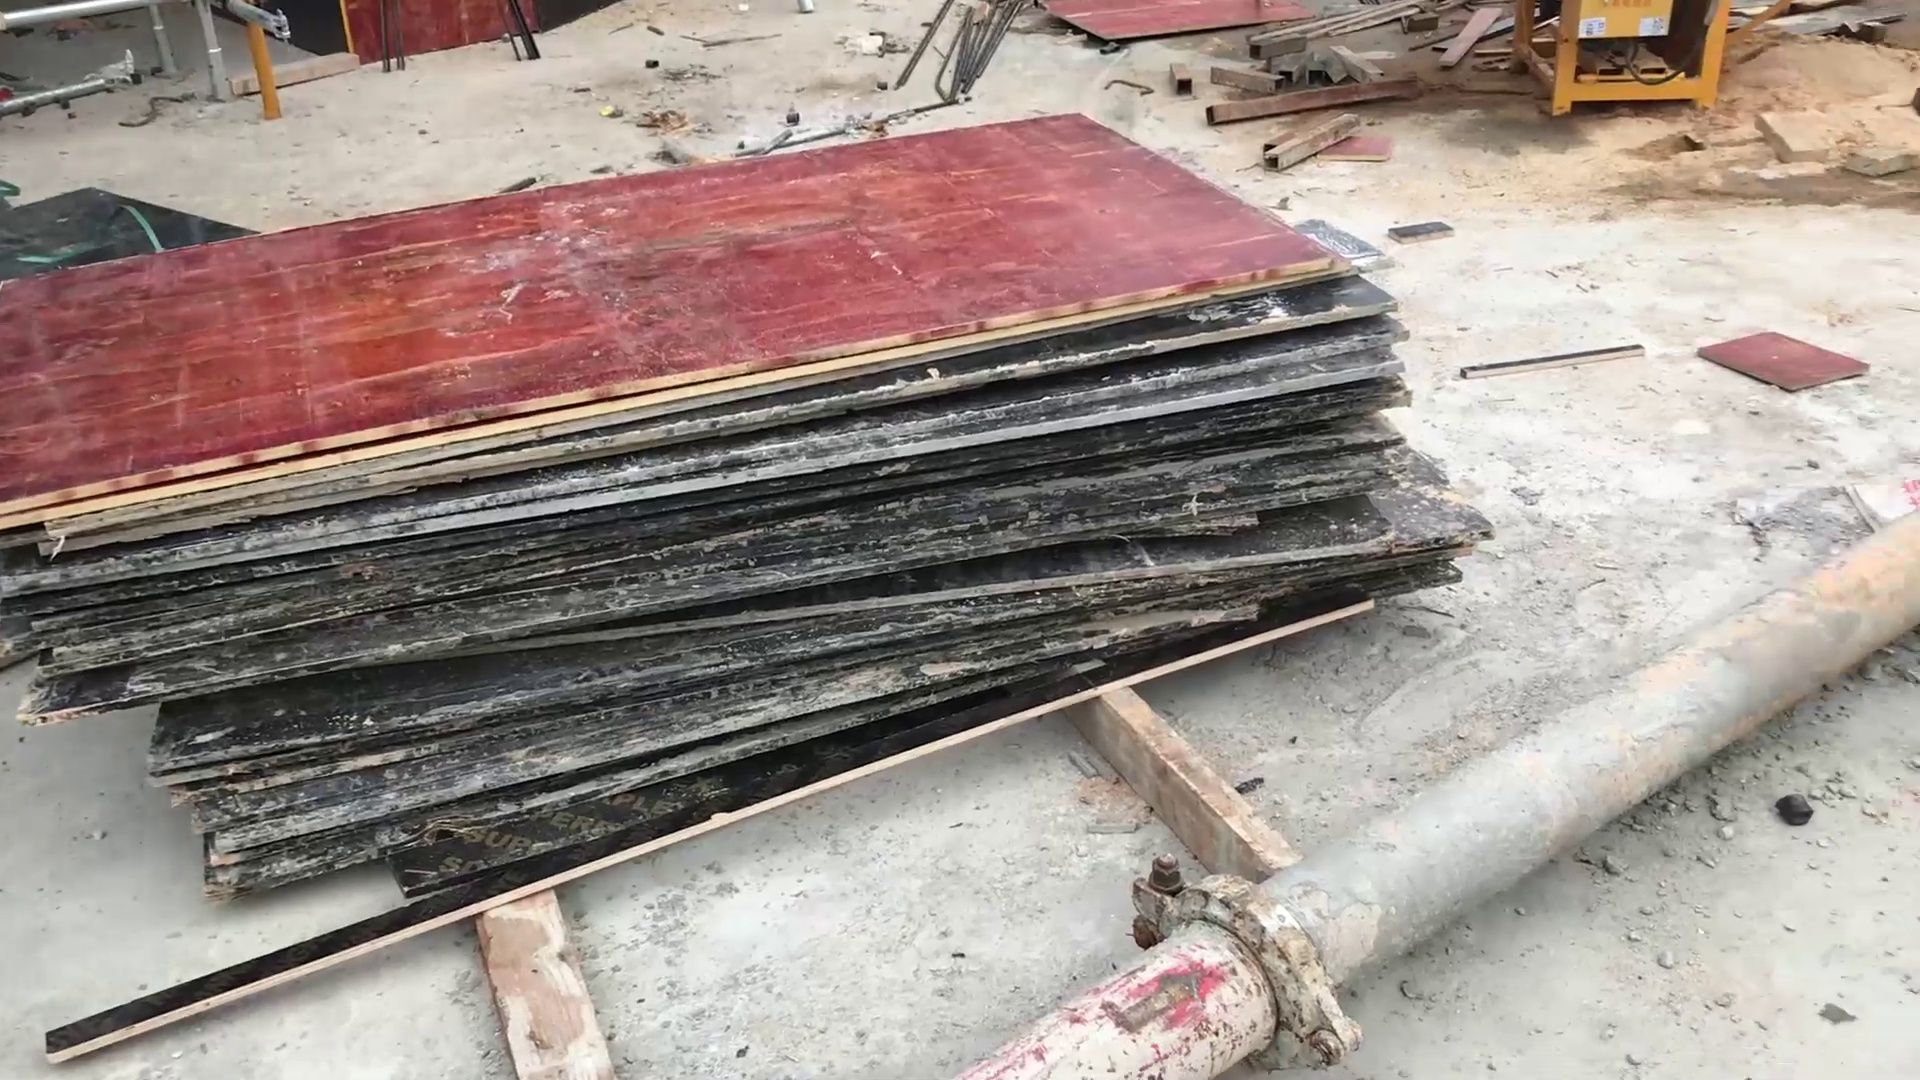board: (4, 88, 1556, 924)
ebox: (1518, 1, 1734, 131)
